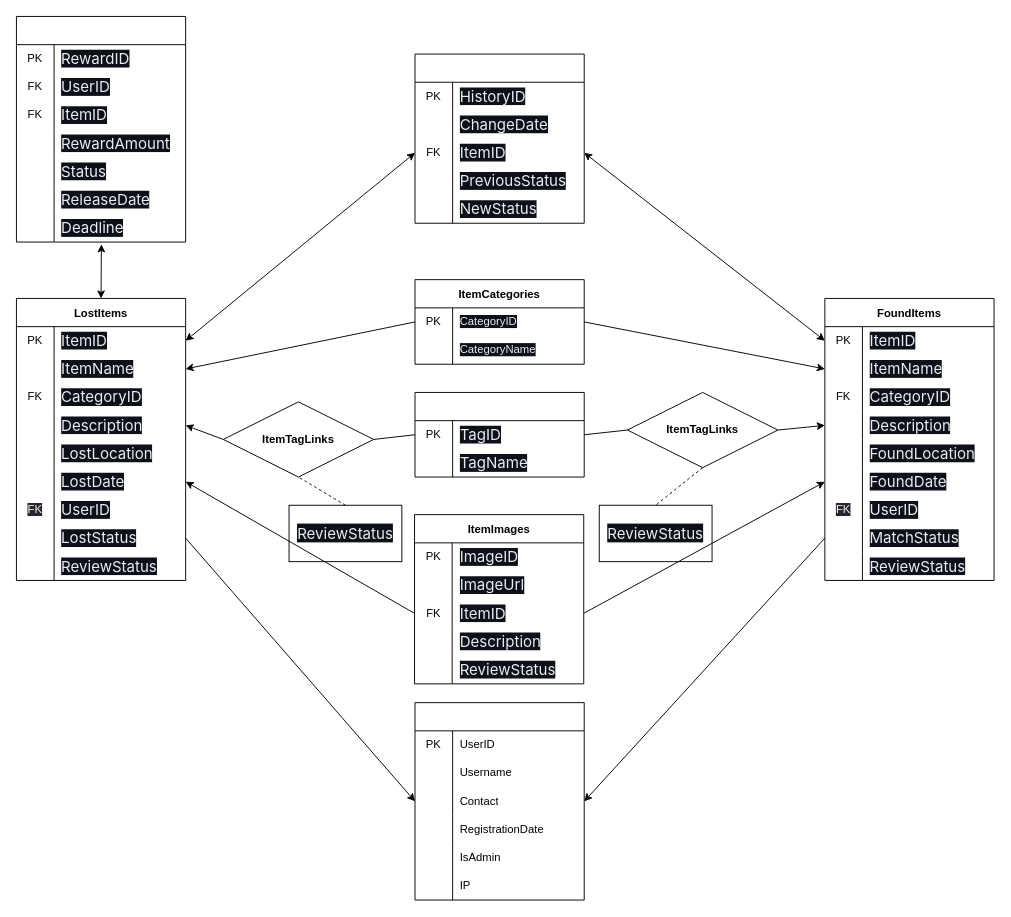
This 1011x917 diagram has some shape labels left out. The box of each missing label's shape, as (x1, y1, x2, y2) in pixels:
ItemStatusHistory: (414, 53, 584, 223)
ItemTags: (414, 392, 584, 477)
RewardOffers: (16, 16, 186, 242)
Users: (414, 702, 584, 900)
